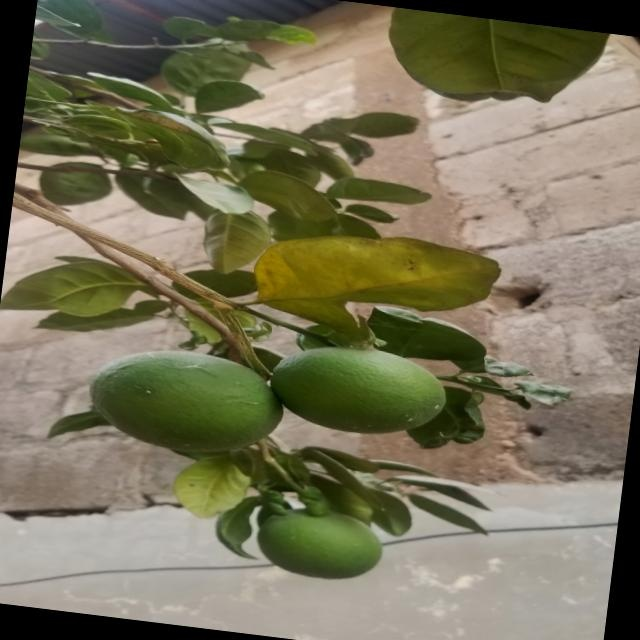agrume: (83, 335, 269, 474), (265, 331, 463, 445), (234, 495, 398, 588)
